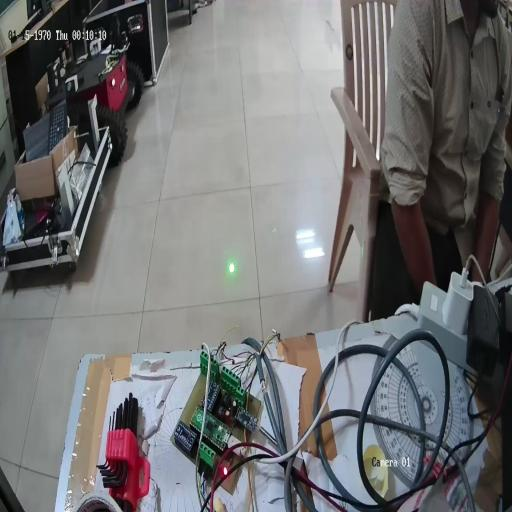laser: (226, 258, 236, 276)
